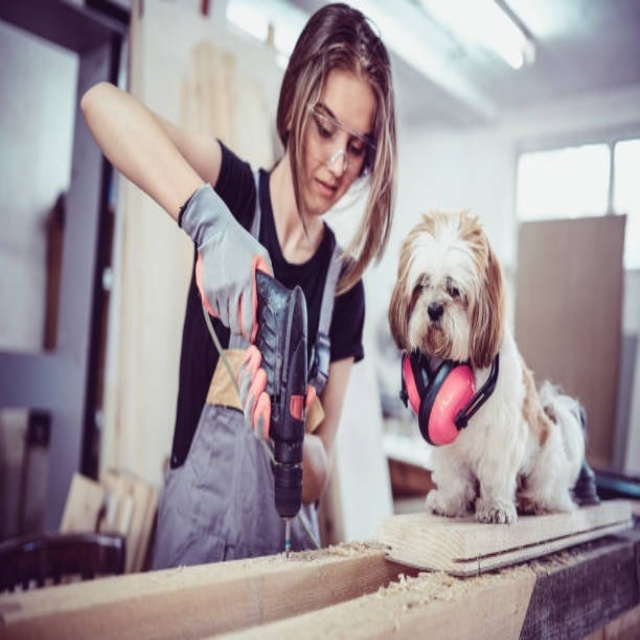Gafas: (310, 101, 376, 173)
Guantes: (178, 177, 276, 344), (236, 342, 271, 449)
Sin_mascara: (307, 176, 344, 216)
